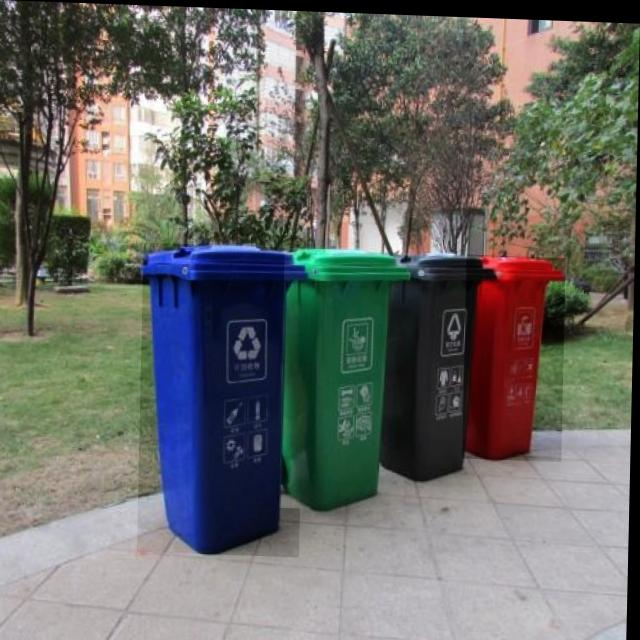garbage_bin: (139, 241, 307, 555), (282, 245, 410, 509), (380, 245, 496, 478), (464, 251, 567, 457)
